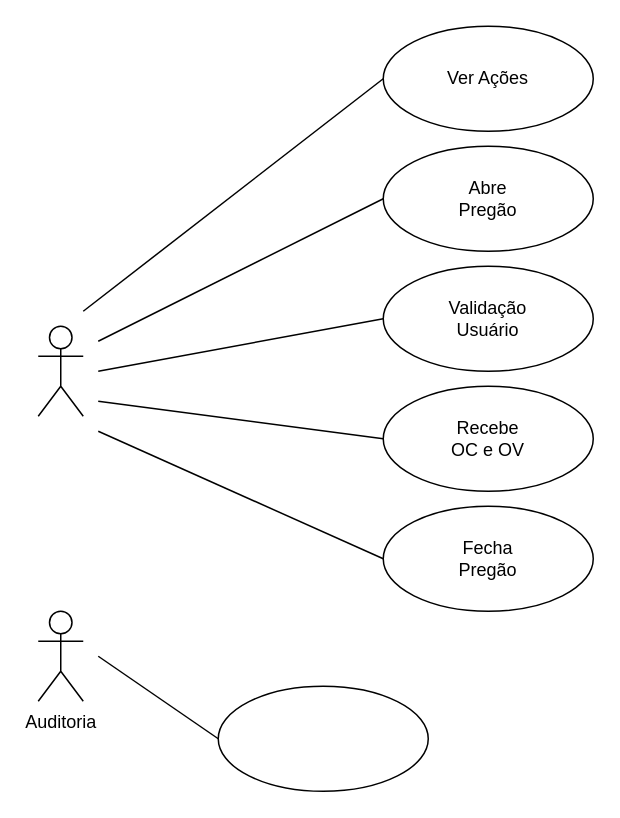
Some shapes in this 620 by 818 pixel diagram are drawn without their labels. The centre of each missing label's shape, as x and y in pixels:
Gera Relatórios (Geral e Consolidado): point 322,738
Market: point 60,370
